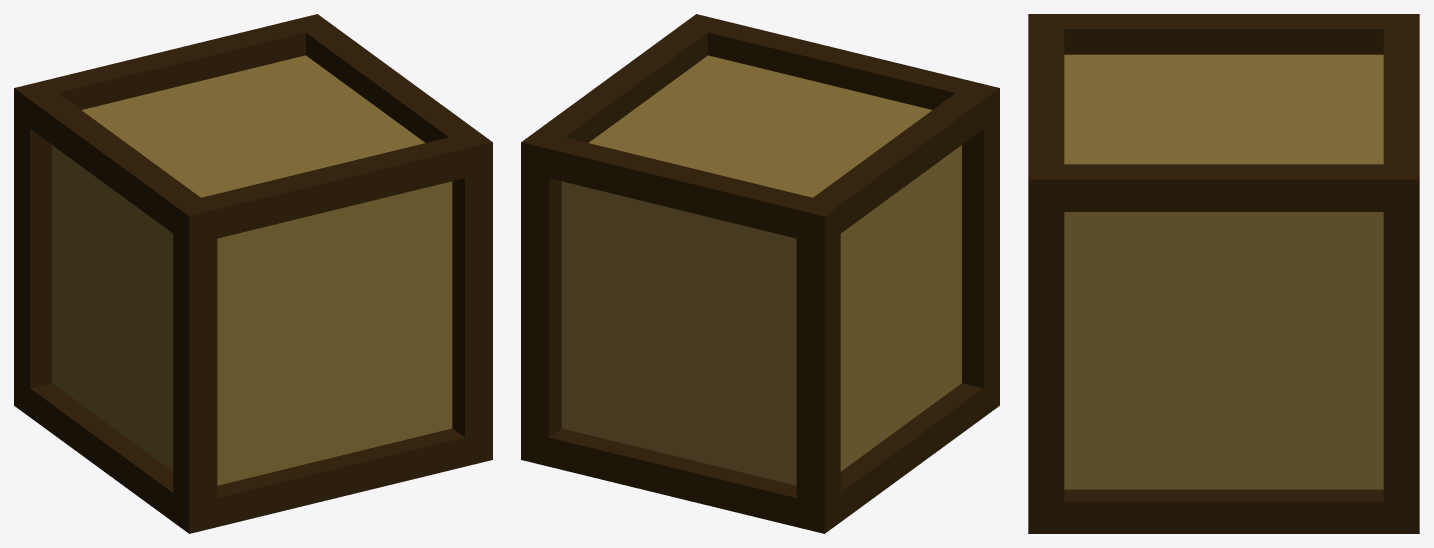
Rendered from caixaLowPoly.glb.
The picture shows the model from 3 angles, left to right: view 1: azimuth 30°, elevation 25°; view 2: azimuth 150°, elevation 25°; view 3: azimuth 270°, elevation 25°; orthographic projection. The views are drawn at different scales.
Parts seen in each view (by area): view 1: Cube; view 2: Cube; view 3: Cube.
Part boxes in pixels (box(x1,y1,x2,y2)): Cube: box(14, 14, 492, 533); Cube: box(521, 14, 999, 533); Cube: box(1028, 14, 1419, 533).
Bounding box in the file's own units: 2 × 2 × 2.
